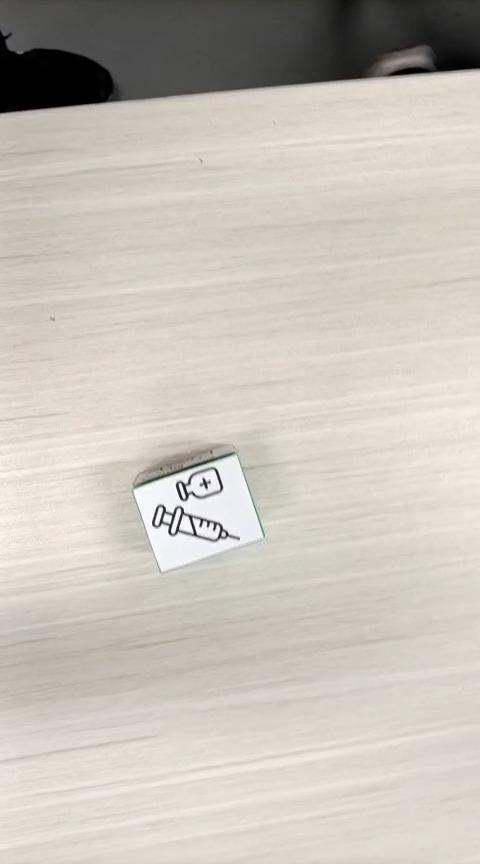antiseptic cream: (130, 442, 265, 574)
